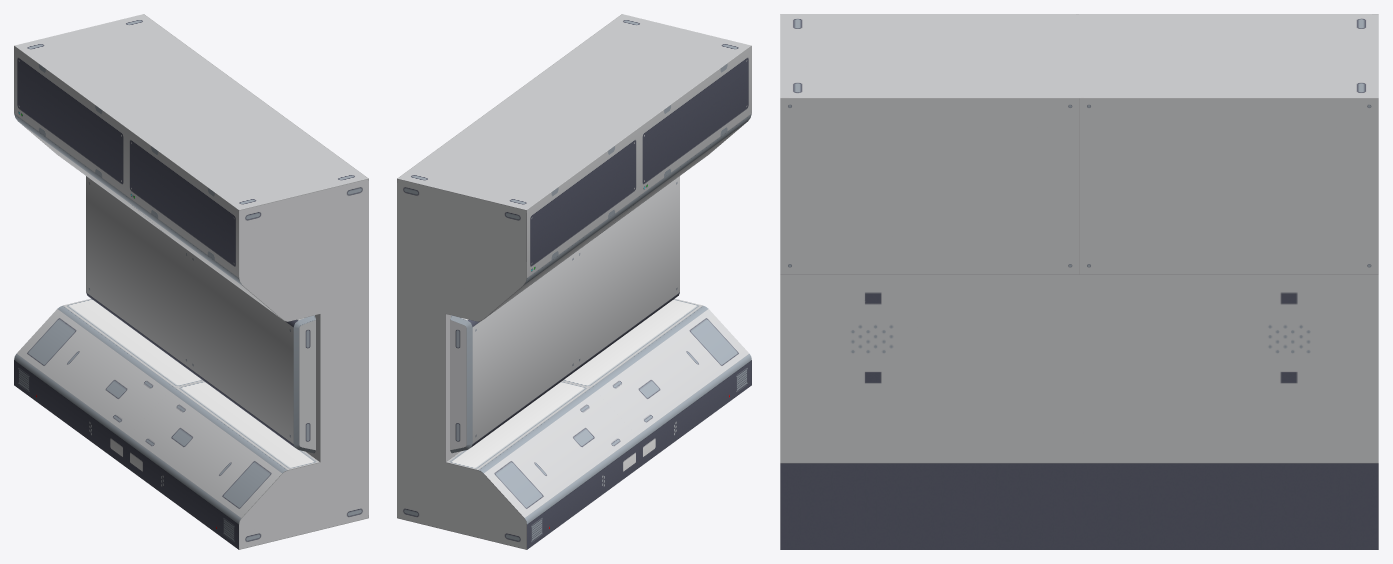
Rendered from Wall_Normal_Simple_01.FBX.
3 renders of one model, left to right at view 1: azimuth 30°, elevation 25°; view 2: azimuth 150°, elevation 25°; view 3: azimuth 270°, elevation 25°, orthographic. The views are drawn at different scales.
Parts seen in each view (by area): view 1: Wall_Normal_Simple_01; view 2: Wall_Normal_Simple_01; view 3: Wall_Normal_Simple_01.
Part boxes in pixels (box(x1,y1,x2,y2)): Wall_Normal_Simple_01: box(14, 14, 368, 549); Wall_Normal_Simple_01: box(397, 14, 751, 549); Wall_Normal_Simple_01: box(780, 14, 1378, 549).
Bounding box in the file's own units: 2 × 5 × 6.
